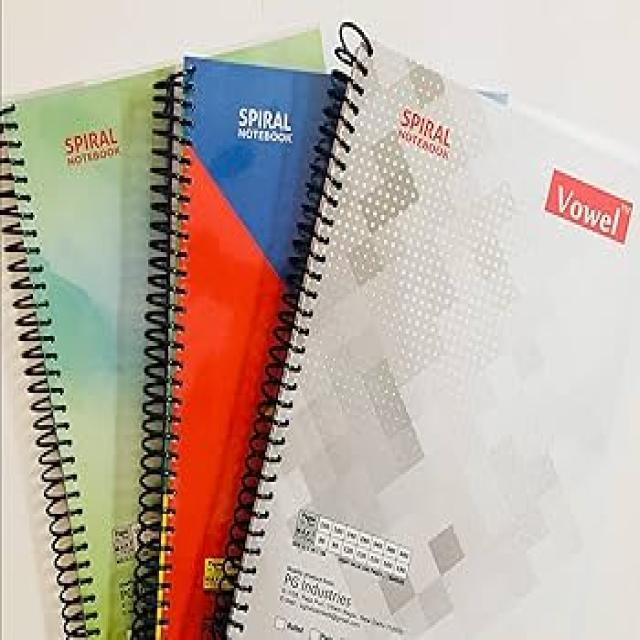notebook: (0, 19, 638, 638), (176, 5, 638, 638)
